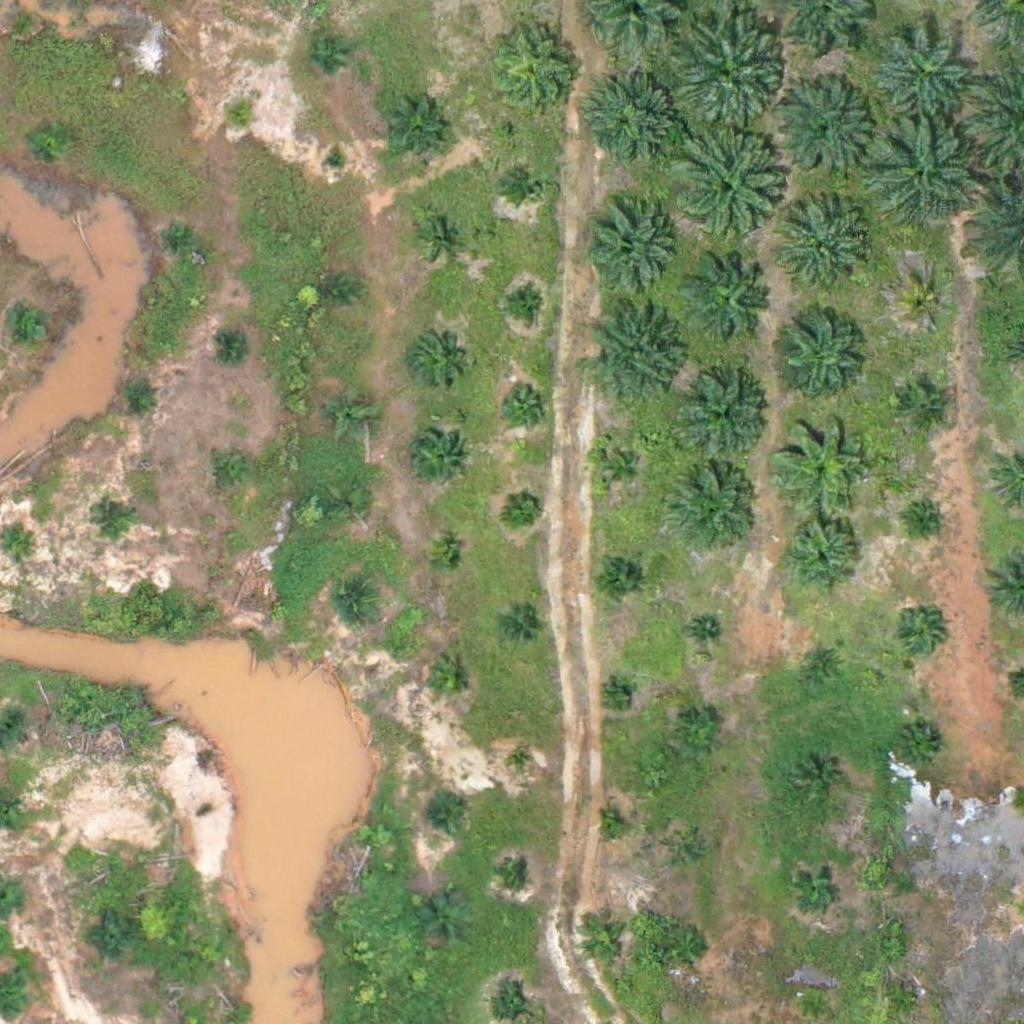Kelapa_Sawit: (663, 10, 788, 135), (663, 129, 788, 254), (870, 121, 983, 234), (874, 22, 974, 123), (773, 77, 873, 178), (584, 74, 684, 175), (581, 202, 681, 303), (486, 20, 586, 121), (771, 412, 871, 513), (589, 304, 689, 405), (784, 206, 872, 295), (778, 513, 866, 601), (669, 462, 757, 550), (681, 370, 769, 458), (688, 257, 776, 345), (778, 302, 865, 390), (381, 101, 444, 164), (408, 428, 470, 491), (665, 922, 715, 973), (411, 331, 461, 382), (578, 916, 628, 967), (424, 655, 474, 706), (327, 388, 377, 439), (899, 380, 949, 430), (893, 609, 943, 659), (896, 723, 946, 773), (793, 862, 843, 912), (793, 755, 843, 805), (800, 641, 850, 691), (673, 711, 723, 761), (592, 551, 642, 601), (420, 895, 470, 945), (89, 915, 139, 965), (900, 280, 950, 330), (595, 442, 645, 492), (500, 378, 550, 428), (424, 796, 462, 834), (317, 273, 355, 311), (220, 98, 258, 136), (511, 167, 549, 205), (10, 310, 47, 348), (668, 833, 706, 870), (427, 540, 465, 577), (505, 284, 542, 322), (423, 217, 460, 255), (217, 328, 255, 365), (93, 503, 130, 541), (334, 486, 372, 523), (507, 488, 544, 526), (304, 37, 341, 75), (887, 982, 924, 1020), (503, 612, 540, 649), (335, 584, 372, 621), (115, 376, 152, 413), (212, 454, 249, 491), (32, 121, 69, 158), (163, 219, 200, 256), (604, 682, 629, 707), (597, 812, 622, 837), (509, 751, 534, 776), (503, 863, 528, 888), (914, 508, 939, 533), (323, 147, 348, 172), (692, 618, 716, 643)
